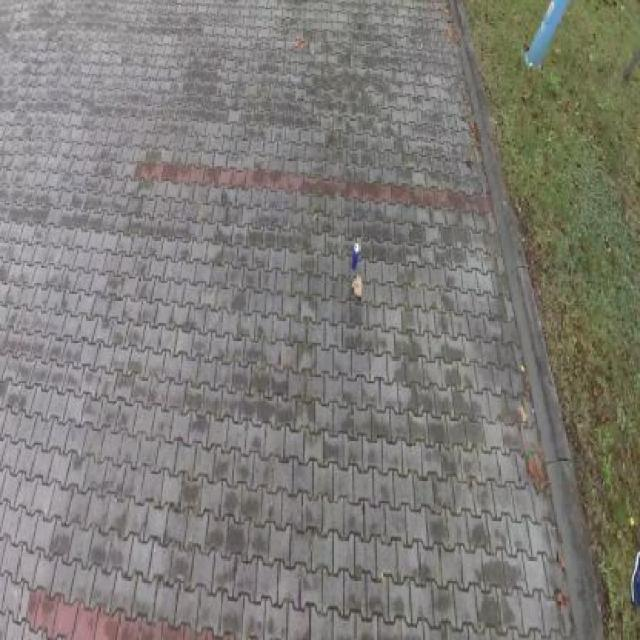Garbage: (351, 274, 363, 298), (351, 243, 359, 269)
